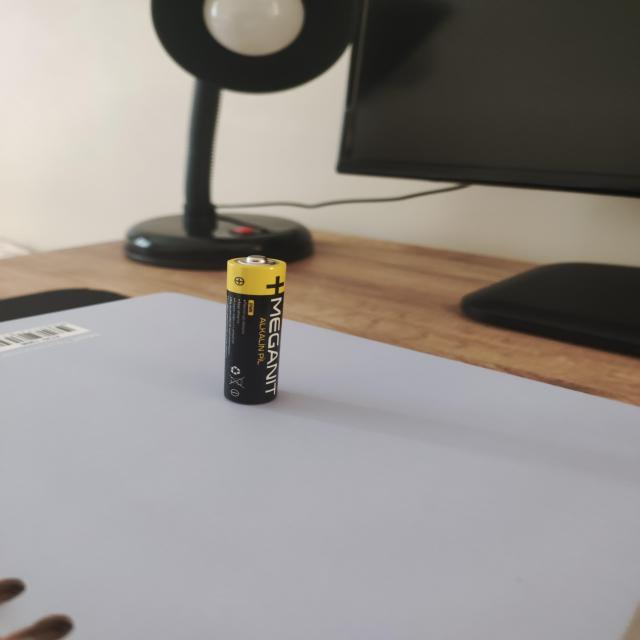AA: (222, 254, 286, 405)
